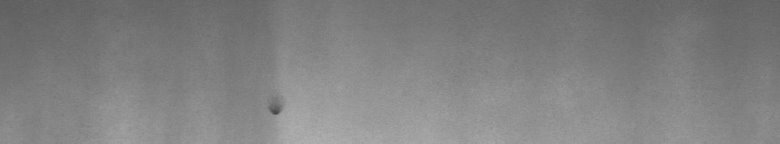fi: (268, 100, 287, 124)
